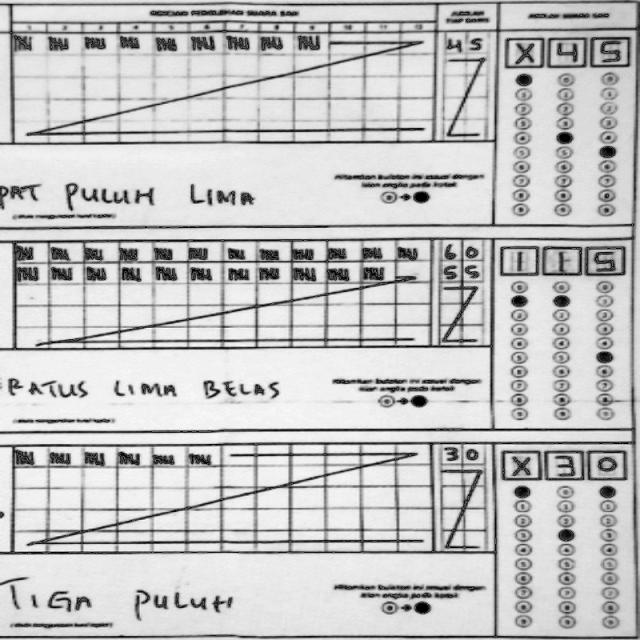Suara: (503, 35, 636, 70), (496, 445, 630, 479), (493, 240, 622, 274)
